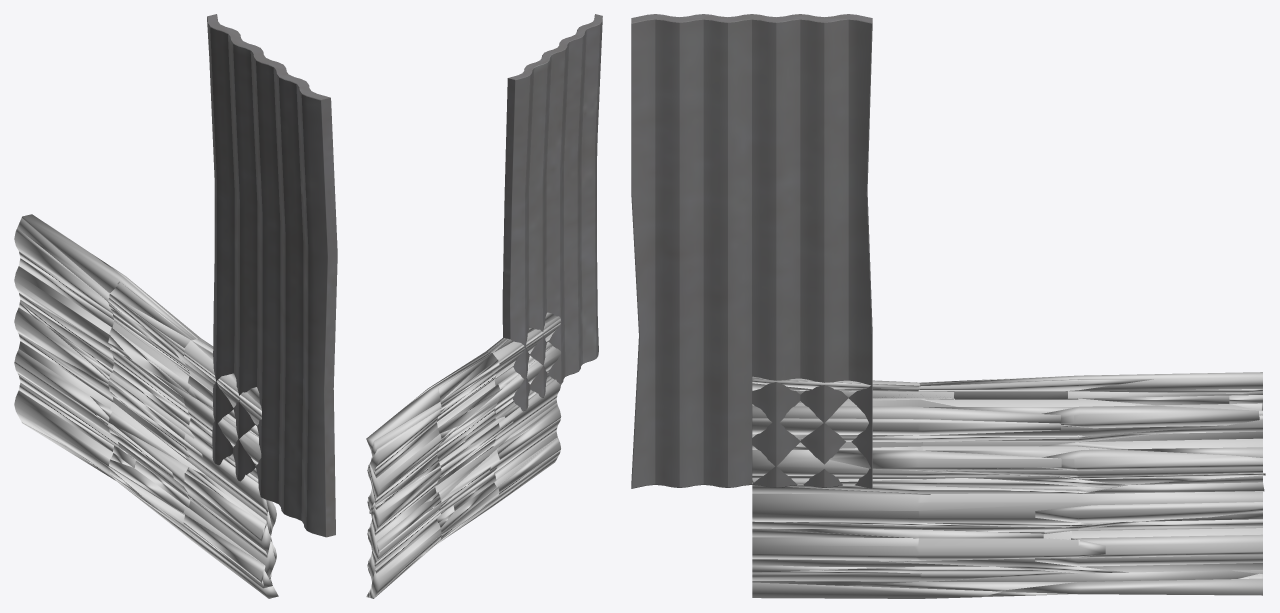
The model's file is SM_MetalPlate_03.fbx.
3 views of the same model, side by side, from view 1: azimuth 30°, elevation 25°; view 2: azimuth 150°, elevation 25°; view 3: azimuth 270°, elevation 25° (orthographic). The views are drawn at different scales.
Visible parts, largest first — view 1: SM_MetalPlate_03, SM_MetalPlate_03_ConvexHulls; view 2: SM_MetalPlate_03, SM_MetalPlate_03_ConvexHulls; view 3: SM_MetalPlate_03, SM_MetalPlate_03_ConvexHulls.
Boxes of the visible parts, x1,y1,x2,y2 form: SM_MetalPlate_03: (207, 14, 337, 537); SM_MetalPlate_03_ConvexHulls: (14, 214, 278, 598); SM_MetalPlate_03: (502, 14, 602, 411); SM_MetalPlate_03_ConvexHulls: (366, 312, 561, 598); SM_MetalPlate_03: (631, 14, 872, 488); SM_MetalPlate_03_ConvexHulls: (752, 372, 1265, 598).
Bounding box in the file's own units: 0.1087 × 2.26 × 2.27.
